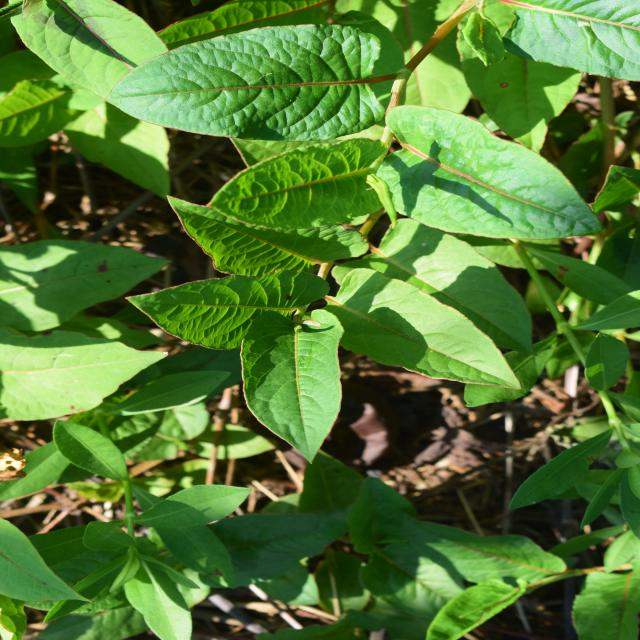Chinese_knotweed: (248, 168, 502, 550)
